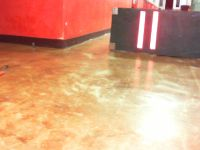switch: (150, 11, 159, 50), (137, 11, 146, 48)
